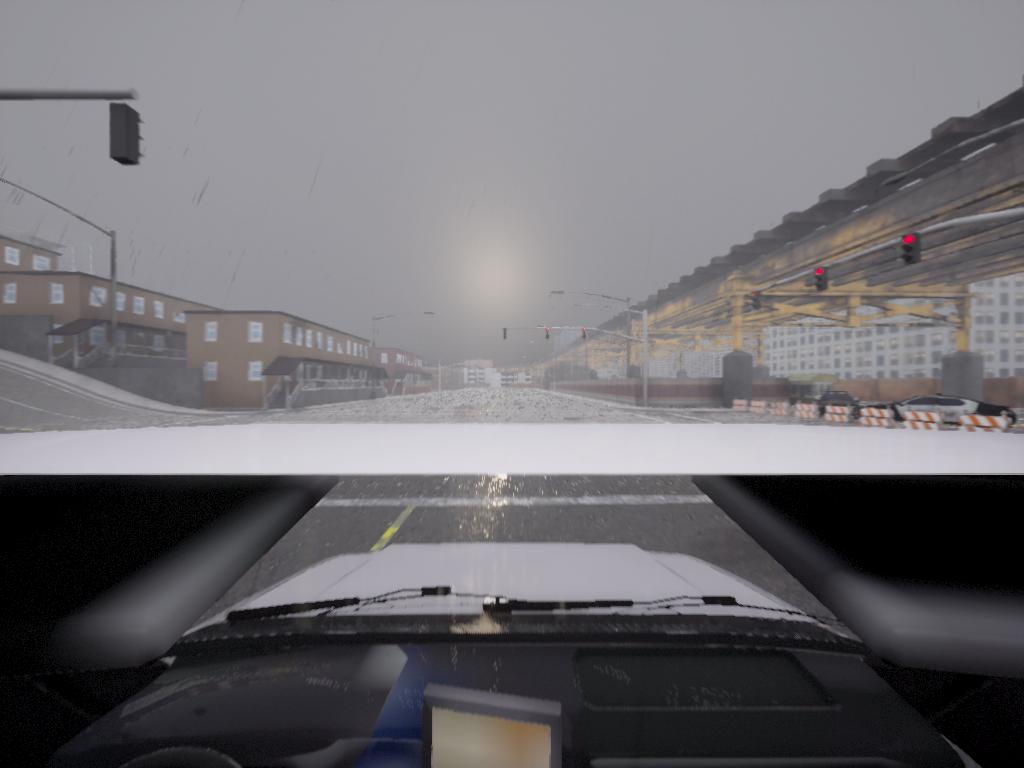traffic_light: (111, 106, 145, 168), (903, 234, 922, 264), (814, 268, 829, 293), (752, 290, 763, 312), (581, 330, 589, 344), (504, 326, 509, 343), (546, 328, 551, 342)
